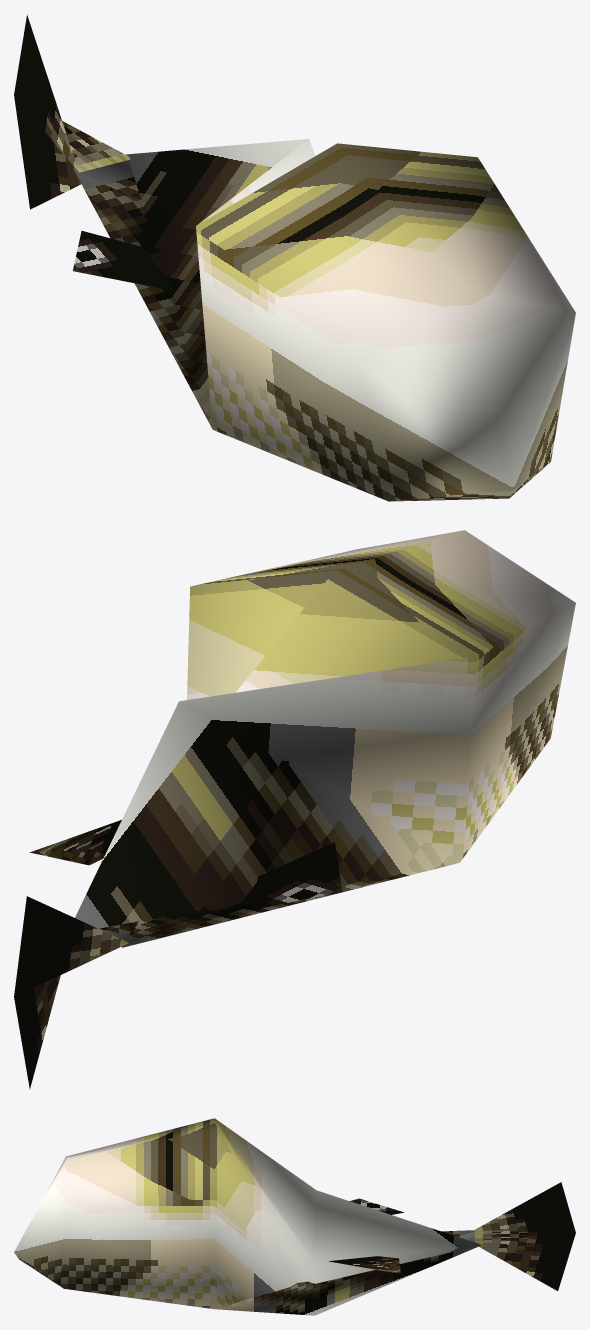
The picture shows the model from 3 angles, top to bottom: view 1: azimuth 30°, elevation 25°; view 2: azimuth 150°, elevation 25°; view 3: azimuth 270°, elevation 25°; orthographic projection. The views are drawn at different scales.
Visible parts, largest first — view 1: 4817fish27_r; view 2: 4817fish27_r; view 3: 4817fish27_r.
Boxes of the visible parts, x1,y1,x2,y2 form: 4817fish27_r: (14, 15, 575, 501); 4817fish27_r: (14, 530, 575, 1089); 4817fish27_r: (14, 1118, 575, 1315).
Bounding box in the file's own units: 0.3284 × 0.3398 × 1.
1 material, 1 textured.
